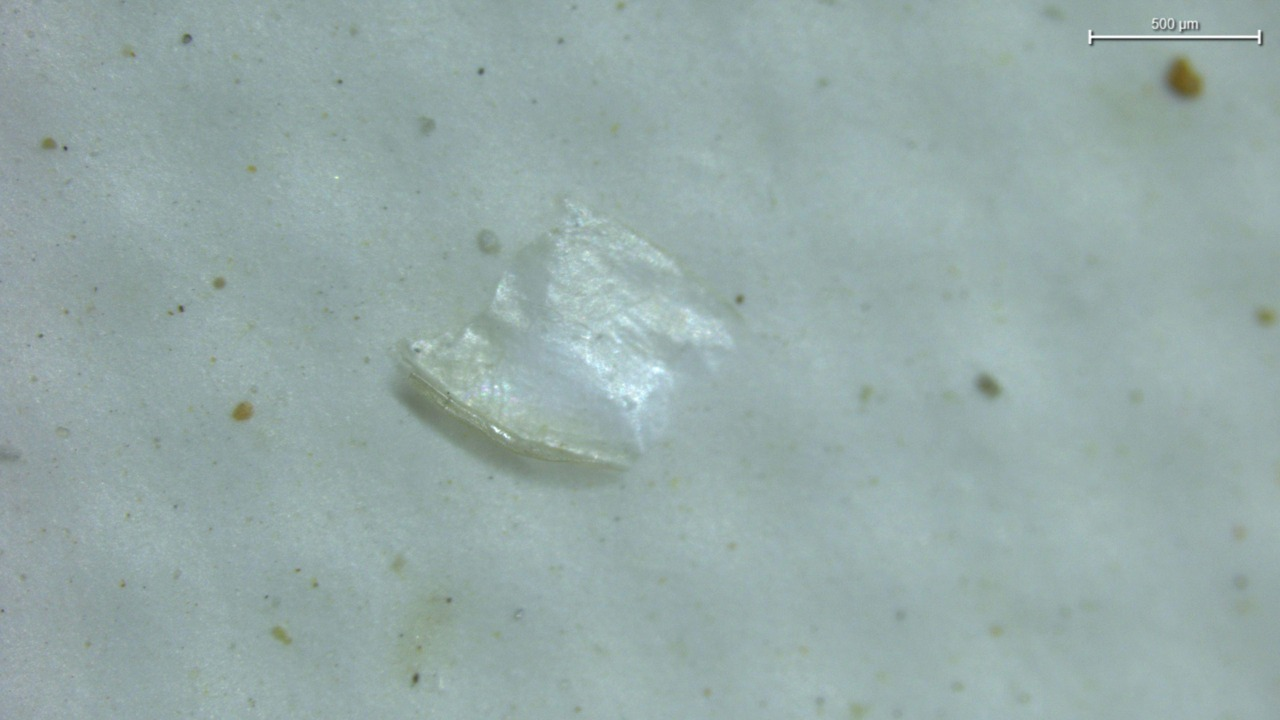microplastic_fragment: (404, 204, 734, 466)
